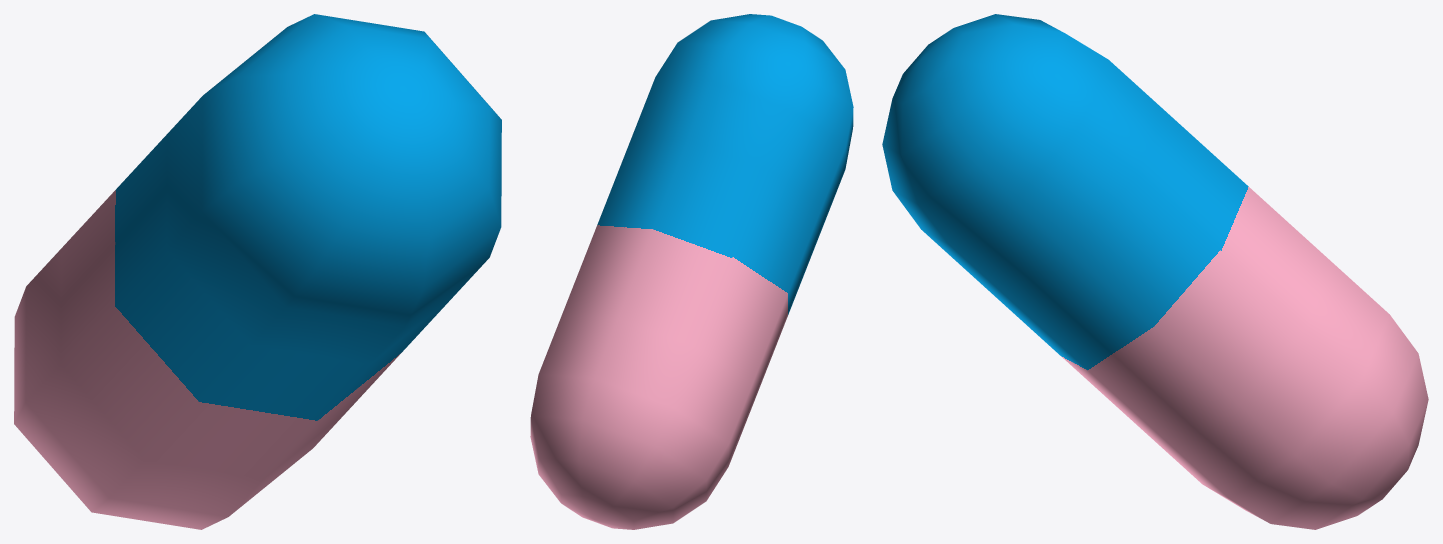
Rendered from Restoril.FBX.
The picture shows the model from 3 angles, left to right: view 1: azimuth 30°, elevation 25°; view 2: azimuth 150°, elevation 25°; view 3: azimuth 270°, elevation 25°; orthographic projection. The views are drawn at different scales.
Parts seen in each view (by area): view 1: Restoril; view 2: Restoril; view 3: Restoril.
Part boxes in pixels (x1,y1,x2,y2): Restoril: (14, 14, 501, 529); Restoril: (530, 14, 853, 529); Restoril: (882, 14, 1428, 529).
Size of the model in its own units: 0.5431 by 1.12 by 1.12.
1 material, 1 textured.
